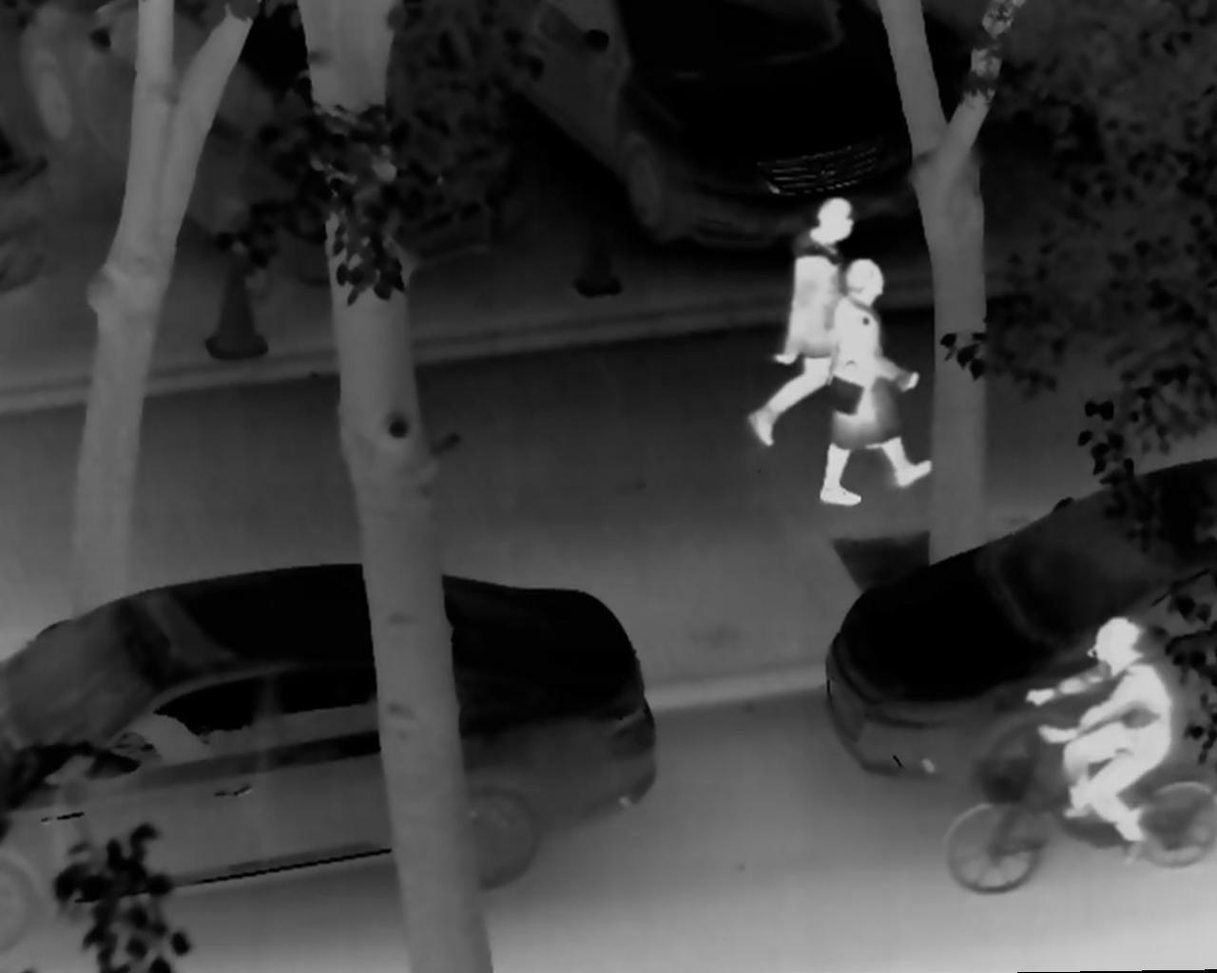person: (1033, 616, 1180, 864), (749, 197, 879, 448), (821, 261, 936, 511)
